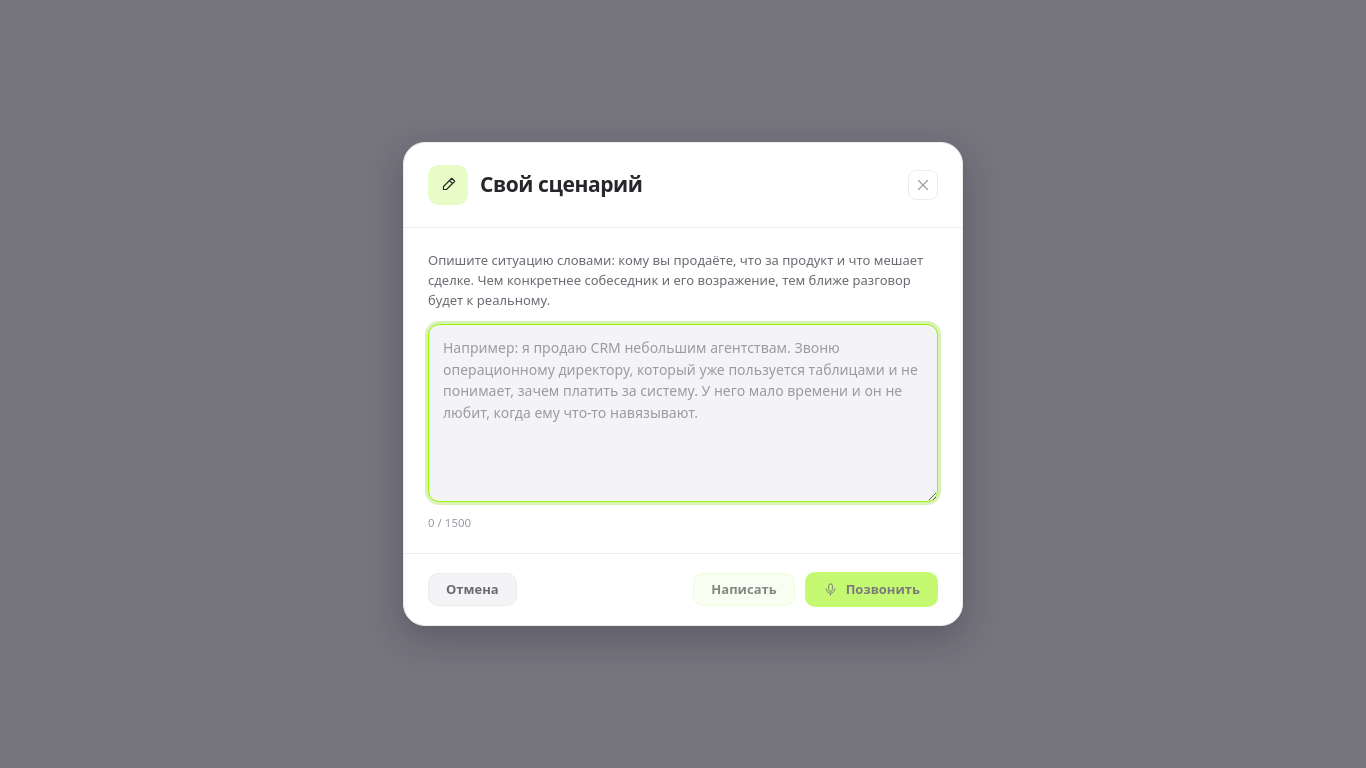
Test: CustomScenarioModal › shows progress only on the action that was pressed
Replace the text in the text box with "Я продаю CRM небольшим агентствам. Звоню директору, который пользуется таблицами." at (683, 413), box [428,324,938,502]
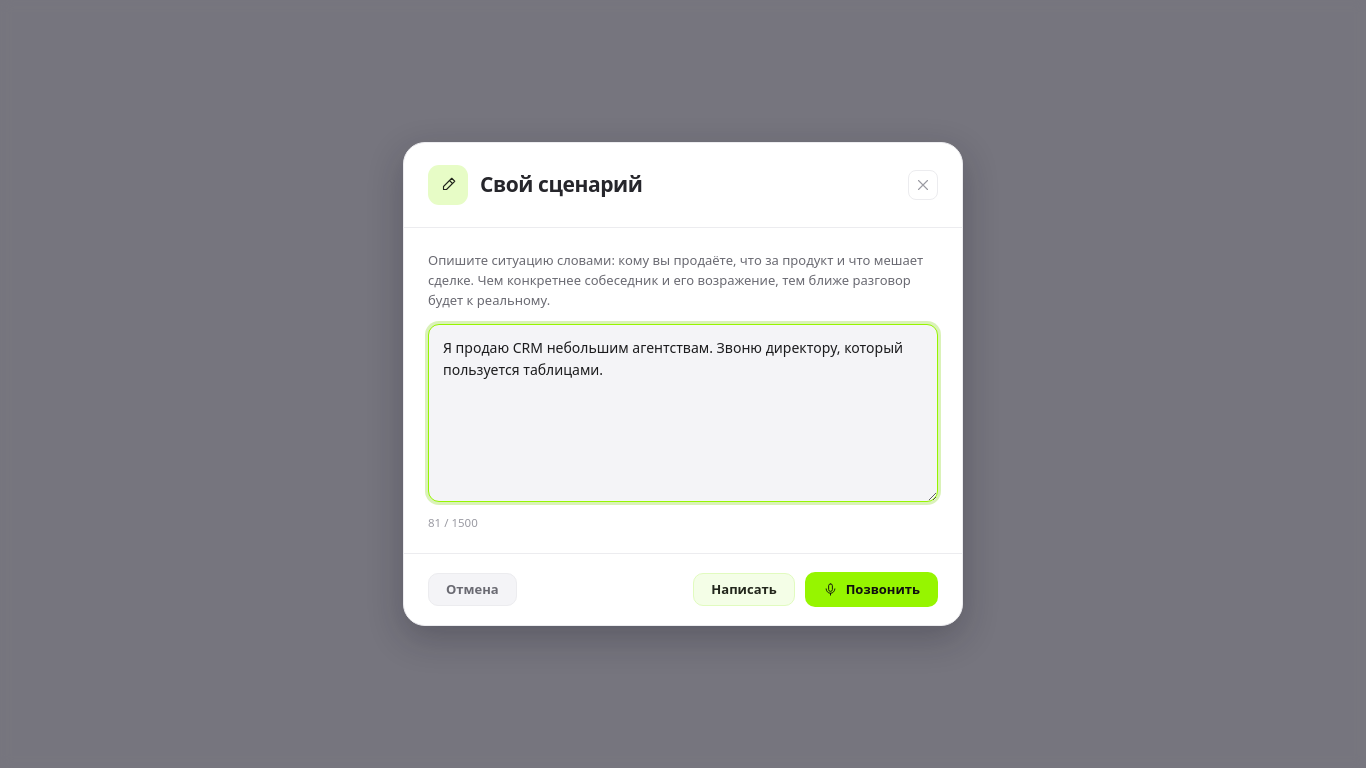
Click the button "Позвонить" at (871, 590), box [805,572,938,608]
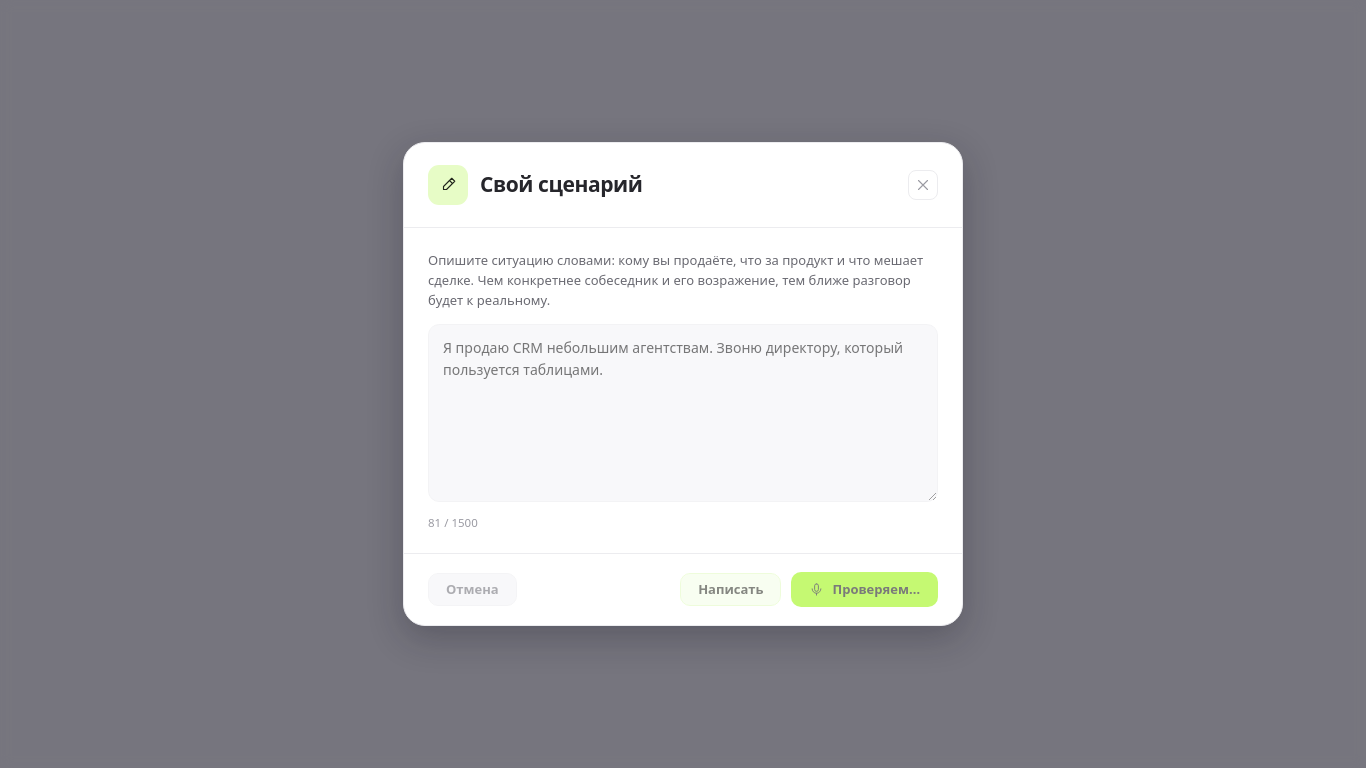
Check: the button "Проверяем…" is shown, box [792,572,938,608]
Check: the button "Написать" is disabled, box [680,574,781,606]
